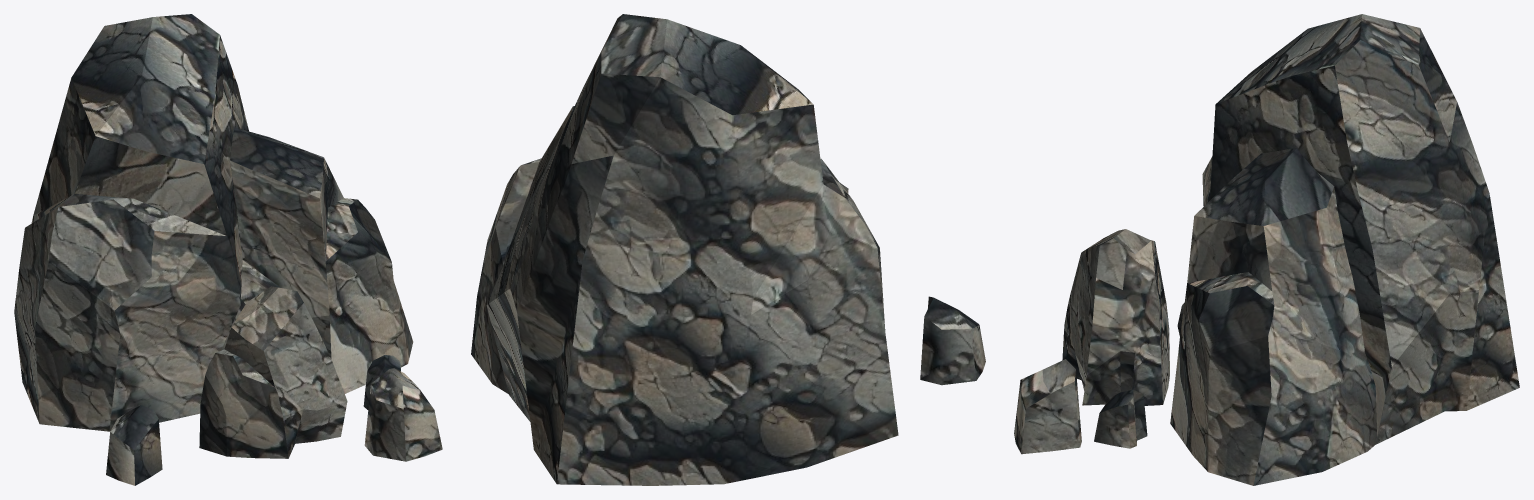
Rendered from RockGroup003.fbx.
3 views of the same model, side by side, from view 1: azimuth 30°, elevation 25°; view 2: azimuth 150°, elevation 25°; view 3: azimuth 270°, elevation 25° (orthographic). The views are drawn at different scales.
Parts seen in each view (by area): view 1: Resource_Rock_1; view 2: Resource_Rock_1; view 3: Resource_Rock_1.
Boxes of the visible parts, box(x1,y1,x2,y2) form: Resource_Rock_1: box(14, 14, 442, 485); Resource_Rock_1: box(471, 14, 985, 485); Resource_Rock_1: box(1014, 14, 1519, 485).
Size of the model in its own units: 619 by 566 by 698.
Materials: 1 (1 with a texture image).
